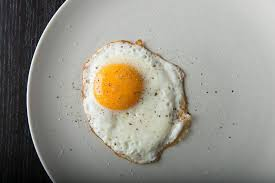Telur ceplok: (82, 40, 193, 165)
